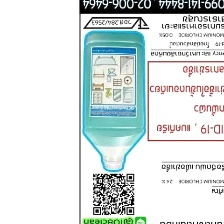cleaning_solution: (81, 27, 149, 174)
